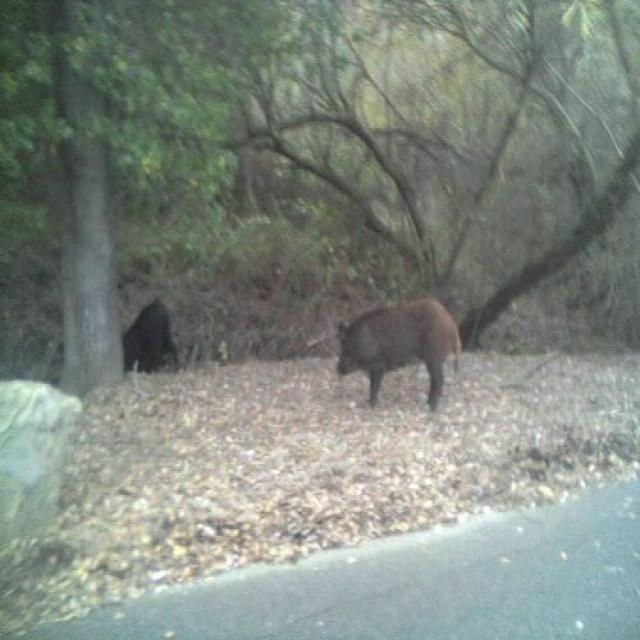boar: (311, 285, 478, 431), (107, 283, 198, 409)
